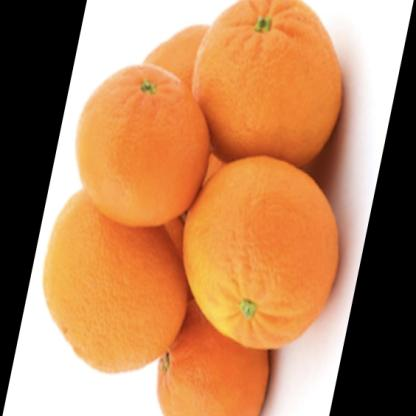fresh: (43, 1, 338, 416)
